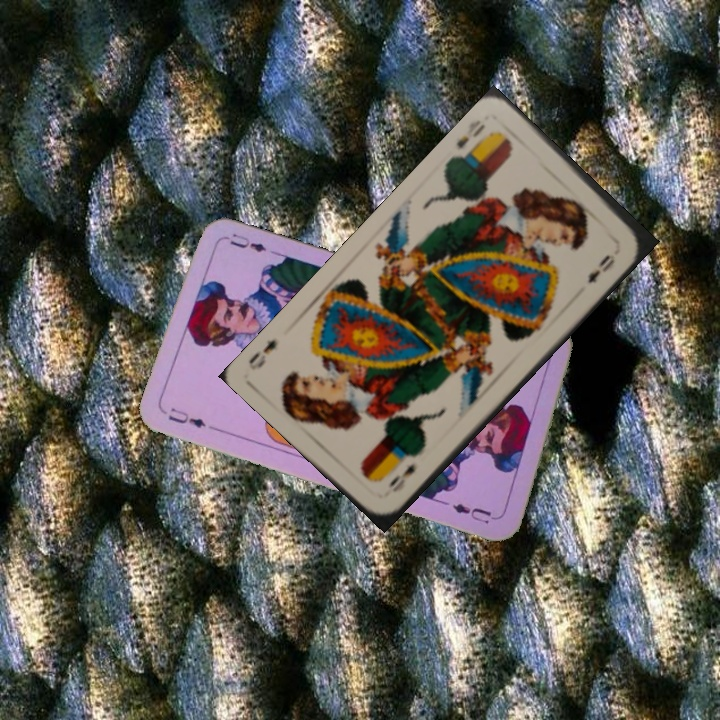EO: (452, 115, 488, 152), (384, 459, 418, 495)
EU: (164, 403, 209, 431)
